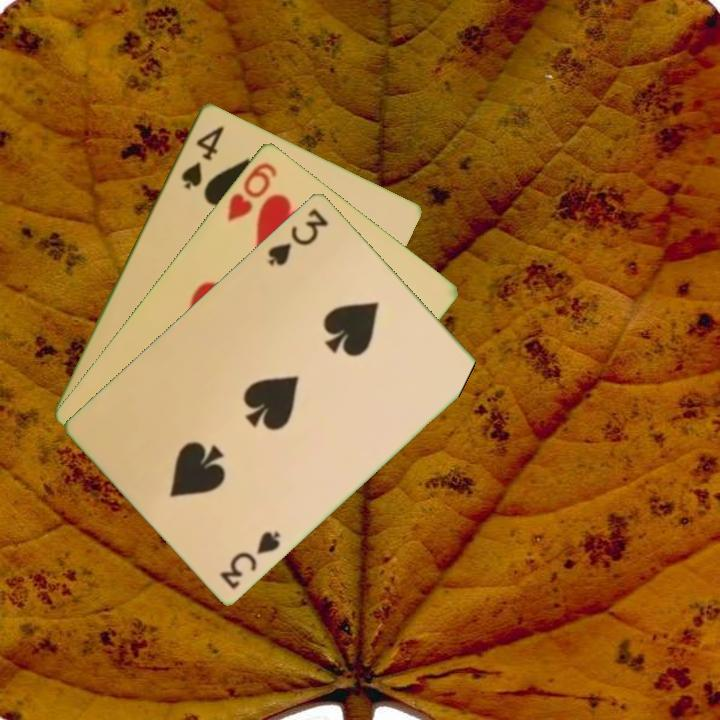3s: (216, 526, 283, 592), (264, 204, 331, 269)
4s: (177, 121, 227, 192)
6h: (223, 158, 280, 225)
